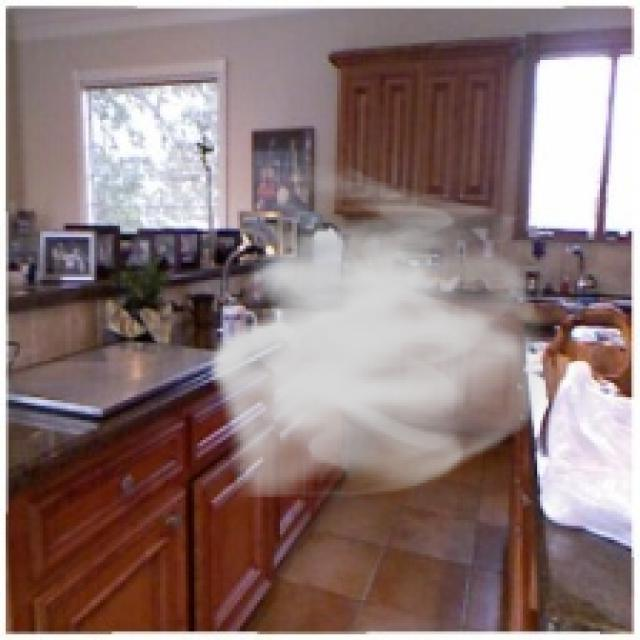Smoke: (206, 160, 563, 509)
